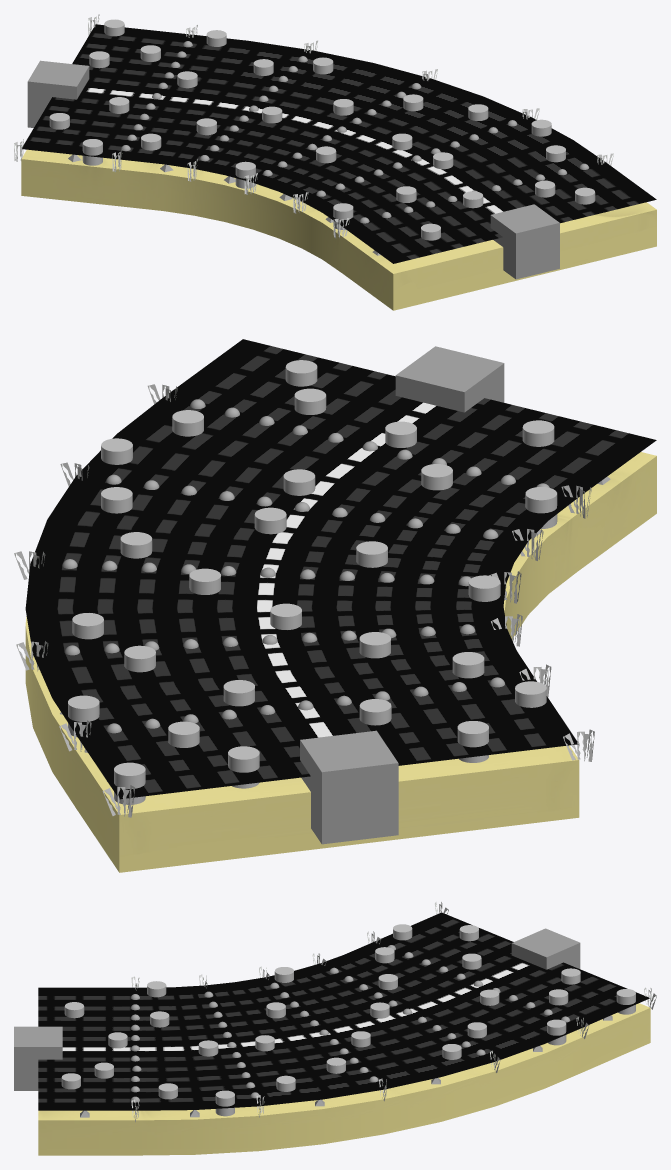
File: assets012_Streckenteil_links001.fbx
3 views of the same model, one above another, from view 1: azimuth 30°, elevation 25°; view 2: azimuth 150°, elevation 25°; view 3: azimuth 270°, elevation 25° (orthographic). The views are drawn at different scales.
Visible parts, largest first — view 1: streckenteil_linkskurve_indicator_geo, streckenteil_linkskurve_geo1, startpoint, endpoint, c, b; view 2: streckenteil_linkskurve_indicator_geo, streckenteil_linkskurve_geo1, a (×12), endpoint, b (×10), startpoint, c (×5), d; view 3: streckenteil_linkskurve_indicator_geo, streckenteil_linkskurve_geo1, startpoint, endpoint, a, b, c.
Part boxes in pixels (left/top/right/bottom): streckenteil_linkskurve_indicator_geo: left=22, top=24, right=656, bottom=263; streckenteil_linkskurve_geo1: left=21, top=149, right=656, bottom=310; startpoint: left=490, top=204, right=559, bottom=279; endpoint: left=27, top=60, right=89, bottom=127; c: left=82, top=139, right=102, bottom=165; b: left=235, top=161, right=255, bottom=188; streckenteil_linkskurve_indicator_geo: left=25, top=339, right=656, bottom=799; streckenteil_linkskurve_geo1: left=25, top=452, right=656, bottom=872; a (×12): left=101, top=360, right=557, bottom=725; endpoint: left=300, top=730, right=398, bottom=844; b (×10): left=68, top=487, right=500, bottom=788; startpoint: left=395, top=346, right=504, bottom=412; c (×5): left=72, top=613, right=546, bottom=804; d: left=168, top=721, right=199, bottom=747; streckenteil_linkskurve_indicator_geo: left=38, top=912, right=649, bottom=1110; streckenteil_linkskurve_geo1: left=38, top=1003, right=650, bottom=1155; startpoint: left=14, top=1026, right=62, bottom=1090; endpoint: left=511, top=928, right=580, bottom=969; a: left=215, top=1090, right=234, bottom=1116; b: left=547, top=1019, right=566, bottom=1045; c: left=616, top=989, right=635, bottom=1014.
Size of the model in its own units: 50.24 by 6.5 by 66.24.
